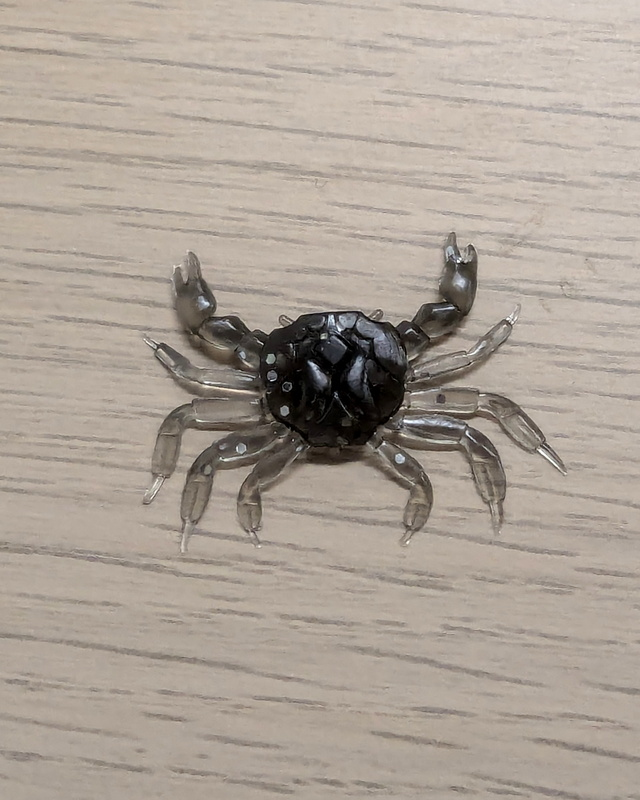crab1: (134, 230, 573, 556)
